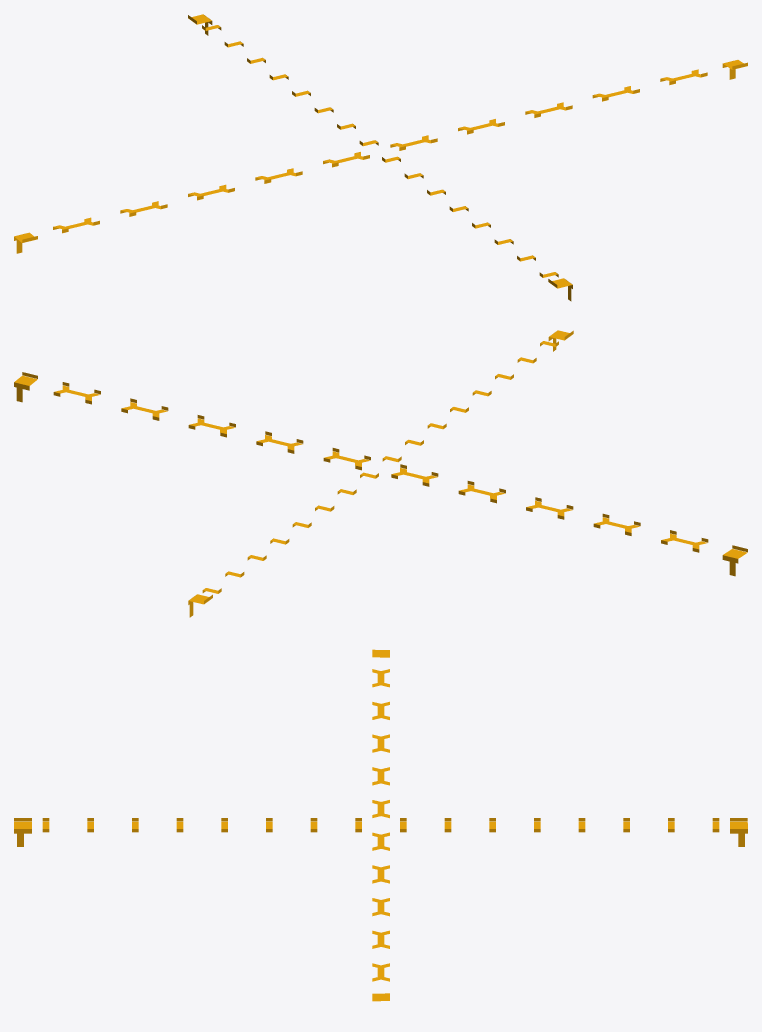
File: assembly-glue-faces.glb
3 views of the same model, one above another, from view 1: azimuth 30°, elevation 25°; view 2: azimuth 150°, elevation 25°; view 3: azimuth 270°, elevation 25° (orthographic).
Parts seen in each view (by area): view 1: front-left, front-right, back-left, back-right; view 2: front-left, front-right, back-left; view 3: front-left, back-left, front-right.
Boxes of the visible parts, <box> form: front-left: <box>14,152,572,288</box>; front-right: <box>382,60,747,301</box>; back-left: <box>14,14,377,253</box>; back-right: <box>188,15,747,150</box>; front-left: <box>383,330,747,576</box>; front-right: <box>14,330,573,470</box>; back-left: <box>188,472,377,604</box>; front-left: <box>14,649,389,846</box>; back-left: <box>400,818,747,846</box>; front-right: <box>372,832,389,1001</box>.
Size of the model in its own units: 0.5568 by 0.0159 by 0.4914.
